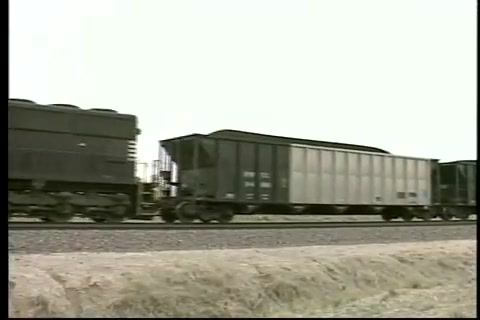train: (9, 97, 479, 226)
